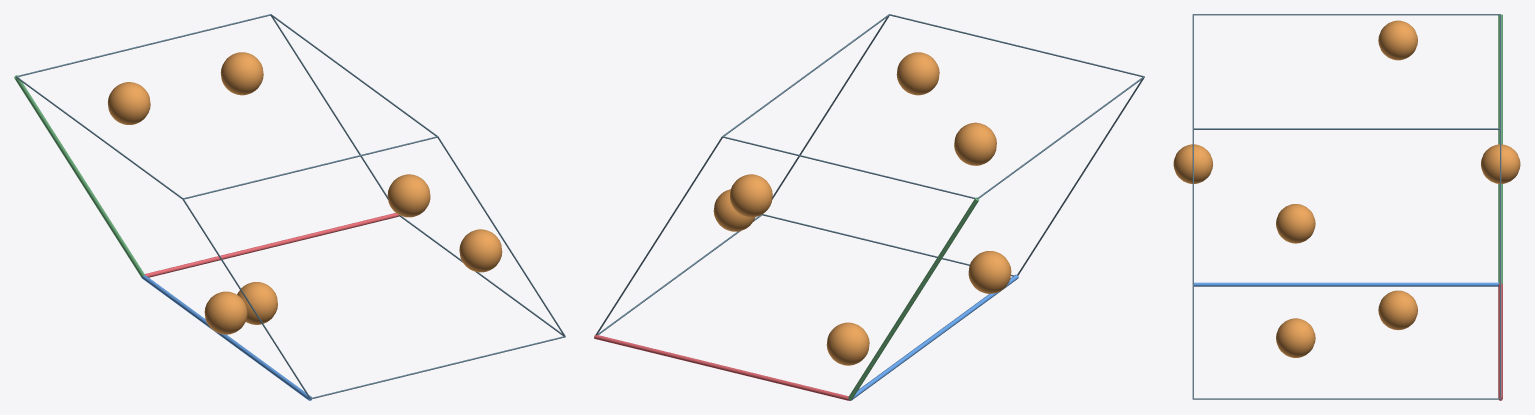
File: nguyen-to-se.glb
3 views of the same model, side by side, from view 1: azimuth 30°, elevation 25°; view 2: azimuth 150°, elevation 25°; view 3: azimuth 270°, elevation 25° (orthographic). The views are drawn at different scales.
Parts seen in each view (by area): view 1: Se · Se · 1 (×6), Ô mạng và các trục a, b, c; view 2: Se · Se · 1 (×6), Ô mạng và các trục a, b, c; view 3: Se · Se · 1 (×6), Ô mạng và các trục a, b, c.
Part boxes in pixels (box(x1,y1,x2,y2)): Se · Se · 1 (×6): box(107, 52, 502, 334); Ô mạng và các trục a, b, c: box(14, 14, 565, 400); Se · Se · 1 (×6): box(713, 52, 1011, 365); Ô mạng và các trục a, b, c: box(594, 14, 1144, 400); Se · Se · 1 (×6): box(1173, 20, 1520, 357); Ô mạng và các trục a, b, c: box(1192, 14, 1502, 400).
Size of the model in its own units: 6.59 by 4.42 by 5.59.
